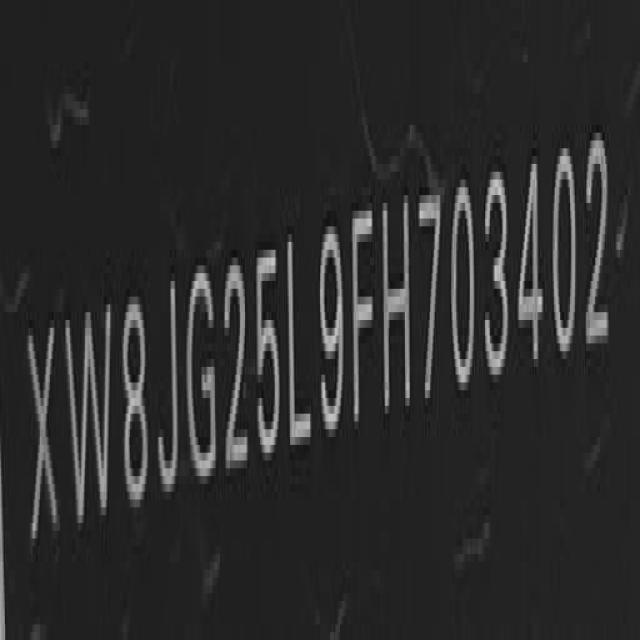0: (451, 176, 478, 396), (554, 144, 579, 363)
2: (223, 254, 250, 480), (588, 128, 611, 355)
3: (485, 171, 510, 393)
4: (520, 153, 546, 381)
5: (256, 240, 282, 469)
7: (418, 180, 442, 414)
8: (122, 293, 149, 520)
9: (319, 222, 345, 448)
F: (350, 202, 376, 454)
G: (188, 257, 218, 497)
H: (382, 188, 412, 439)
J: (156, 278, 182, 504)
L: (286, 228, 310, 455)
W: (65, 296, 115, 540)
X: (26, 313, 58, 567)
